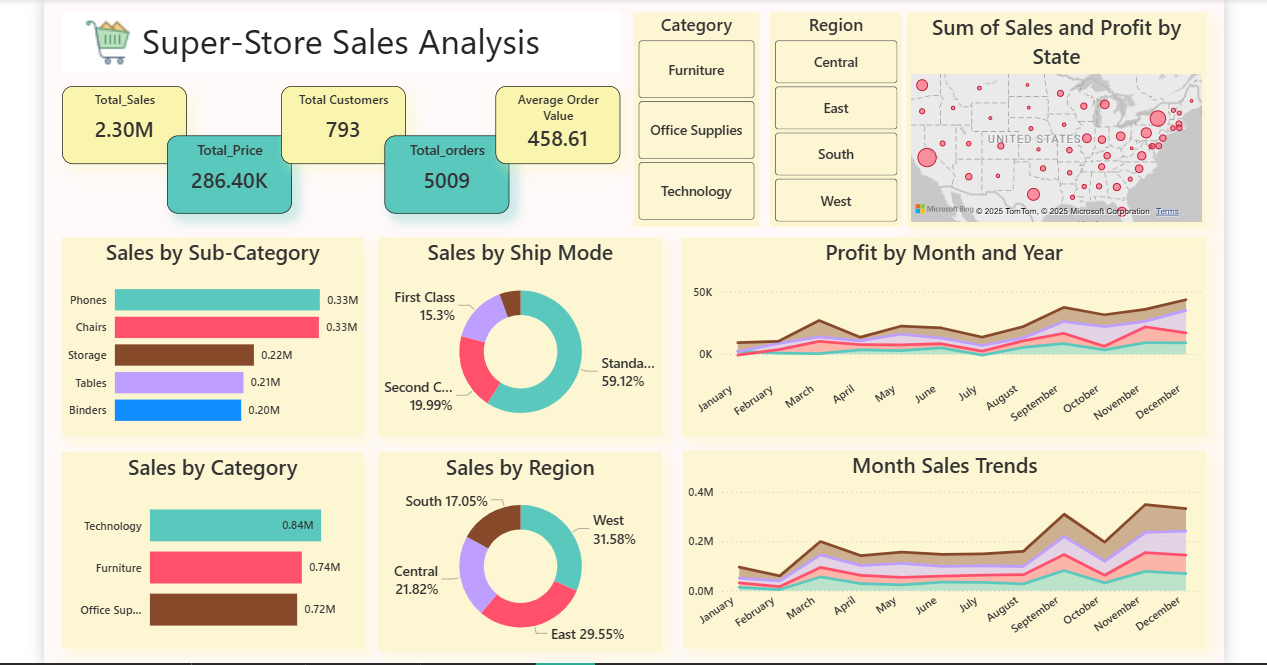

The dashboard page shown, as its layout file describes it:
{"tool":"powerbi","page":{"name":"Page 3","canvas":[1280,720],"ordinal":2},"visuals":[{"type":"card","title":"Total_Sales","fields":{"Values":["Orders.TotalSales"]},"box":[19.5,94.3,135,84.6],"z":0},{"type":"card","title":"Total_Price","fields":{"Values":["Orders.TotalProfit"]},"box":[133.4,148,135,84.6],"z":1000},{"type":"card","title":"Total Customers","fields":{"Values":["Orders.TotalCustomers"]},"box":[257,94.3,135,84.6],"z":2000},{"type":"card","title":"Total_orders","fields":{"Values":["Orders.TotalOrders"]},"box":[369.2,148,135,84.6],"z":3000},{"type":"card","title":"Average Order Value","fields":{"Values":["Orders.AverageOrderValue"]},"box":[489.6,94.3,135,84.6],"z":4000},{"type":"donutChart","title":"Sales by Region","fields":{"Y":["Sum(Orders.Sales)"],"Category":["Orders.Region"]},"box":[362.7,491.2,307.4,216.3],"z":5000},{"type":"donutChart","title":"Sales by Ship Mode","fields":{"Y":["Sum(Orders.Sales)"],"Category":["Orders.Ship Mode"]},"box":[362.7,258.6,307.4,216.3],"z":6000},{"type":"stackedAreaChart","title":" Month Sales Trends","fields":{"Y":["Sum(Orders.Sales)"],"Category":["Orders.Order Date.Variation.Date Hierarchy.Month"],"Series":["Orders.Order Date.Variation.Date Hierarchy.Year"]},"box":[692.9,489.6,567.7,214.7],"z":7000},{"type":"stackedAreaChart","title":"Profit by Month and Year","fields":{"Category":["Orders.Order Date.Variation.Date Hierarchy.Month"],"Series":["Orders.Order Date.Variation.Date Hierarchy.Year"],"Y":["Sum(Orders.Profit)"]},"box":[691.3,258.6,569.3,216.3],"z":8000},{"type":"clusteredBarChart","title":"Sales by Category","fields":{"Category":["Orders.Category"],"Y":["Sum(Orders.Sales)"]},"box":[19.5,491.2,326.9,213.1],"z":9000},{"type":"advancedSlicerVisual","fields":{"Values":["Orders.Region"]},"box":[787.2,14.6,143.1,232.6],"z":10000},{"type":"advancedSlicerVisual","fields":{"Values":["Orders.Category"]},"box":[639.2,14.6,136.6,232.6],"z":11000},{"type":"textbox","box":[19.5,14.6,605.1,65.1],"z":12000},{"type":"image","box":[43.9,14.6,50.4,65.1],"z":13000},{"type":"clusteredBarChart","title":" Sales by Sub-Category","fields":{"Y":["Sum(Orders.Sales)"],"Category":["Orders.Sub-Category"]},"box":[19.5,258.6,326.9,216.3],"z":14000},{"type":"map","title":"Sum of Sales and Profit by State","fields":{"Category":["Orders.State"],"Size":["Sum(Orders.Sales)"]},"box":[935.3,14.6,325.3,232.6],"z":14001}]}

Visuals, with their boxes on the page's 1280x720 design canvas (x1, y1, x2, y2). These are canvas units, not pixel positions in the 1267x665 screenshot, which may show the page scaled, cropped or inside an application window:
"Total_Sales" card: (x1=20, y1=94, x2=154, y2=179)
"Total_Price" card: (x1=133, y1=148, x2=268, y2=233)
"Total Customers" card: (x1=257, y1=94, x2=392, y2=179)
"Total_orders" card: (x1=369, y1=148, x2=504, y2=233)
"Average Order Value" card: (x1=490, y1=94, x2=625, y2=179)
"Sales by Region" donutChart: (x1=363, y1=491, x2=670, y2=708)
"Sales by Ship Mode" donutChart: (x1=363, y1=259, x2=670, y2=475)
" Month Sales Trends" stackedAreaChart: (x1=693, y1=490, x2=1261, y2=704)
"Profit by Month and Year" stackedAreaChart: (x1=691, y1=259, x2=1261, y2=475)
"Sales by Category" clusteredBarChart: (x1=20, y1=491, x2=346, y2=704)
advancedSlicerVisual - Orders.Region: (x1=787, y1=15, x2=930, y2=247)
advancedSlicerVisual - Orders.Category: (x1=639, y1=15, x2=776, y2=247)
textbox: (x1=20, y1=15, x2=625, y2=80)
image: (x1=44, y1=15, x2=94, y2=80)
" Sales by Sub-Category" clusteredBarChart: (x1=20, y1=259, x2=346, y2=475)
"Sum of Sales and Profit by State" map: (x1=935, y1=15, x2=1261, y2=247)
